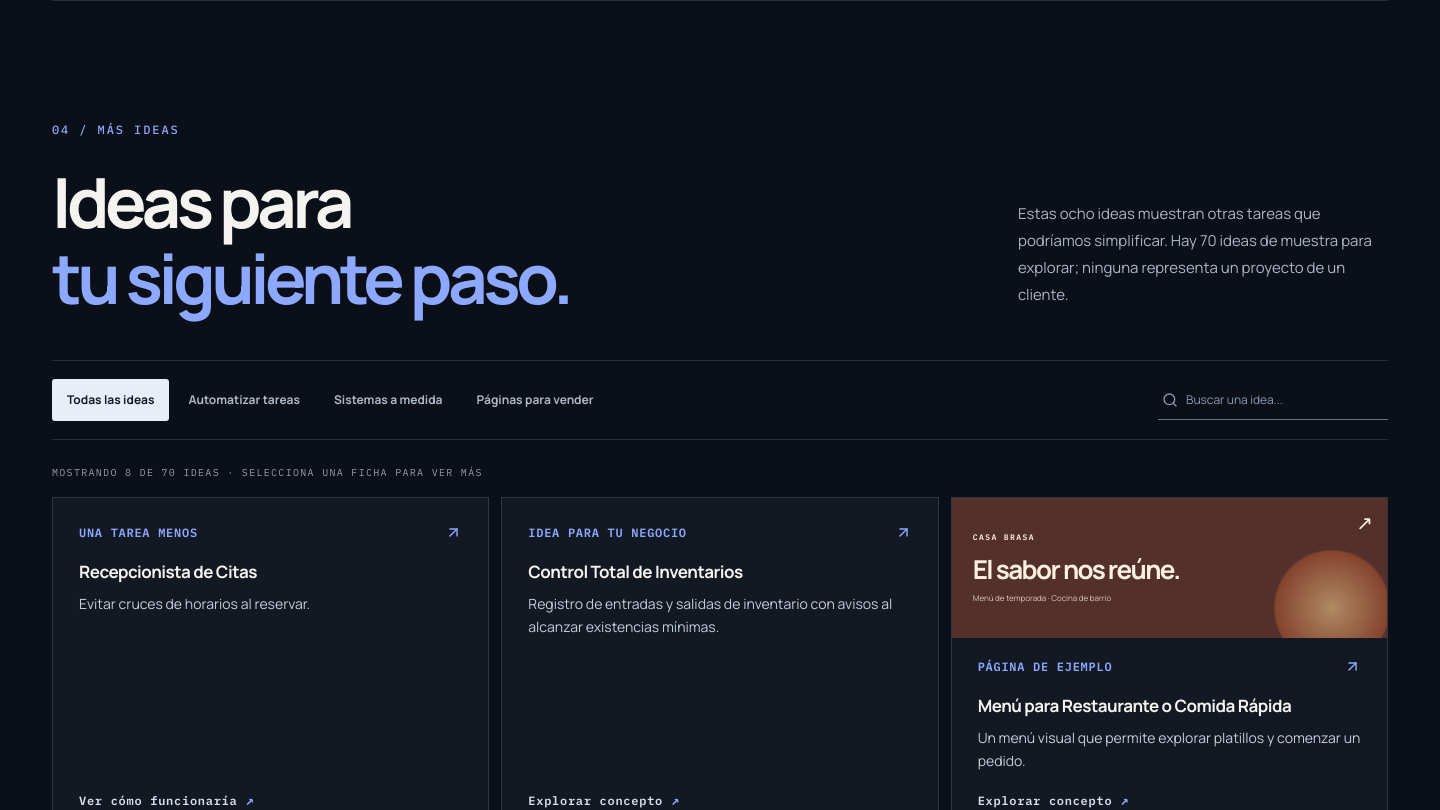
it: recorridos del portafolio › encuentra clínica aunque se escriba sin acento
Type "clinica" into the search field at (1285, 400), box [1186,391,1384,409]
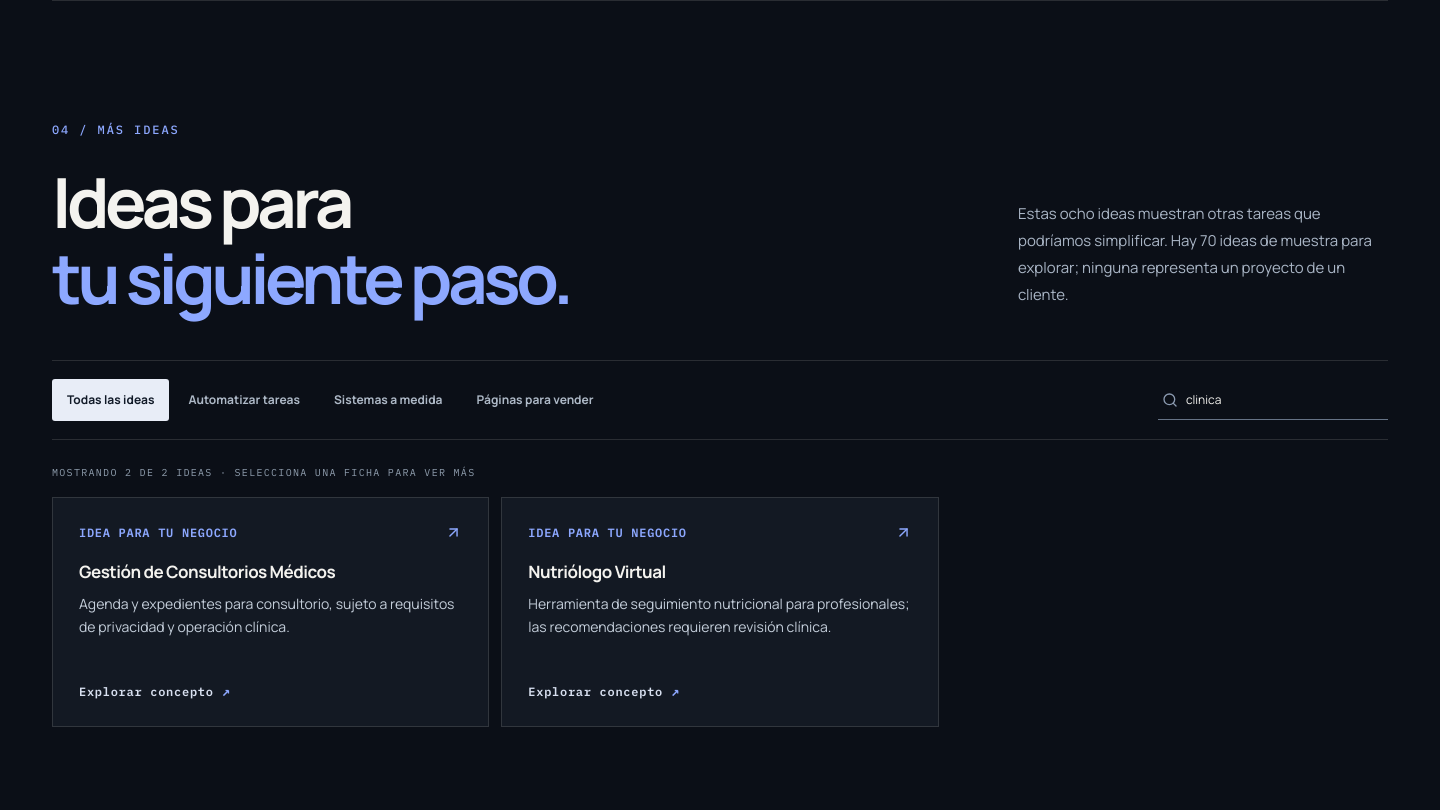
expect the text "Gestión de Consultorios Médicos" is shown: met, box [79,561,335,583]
